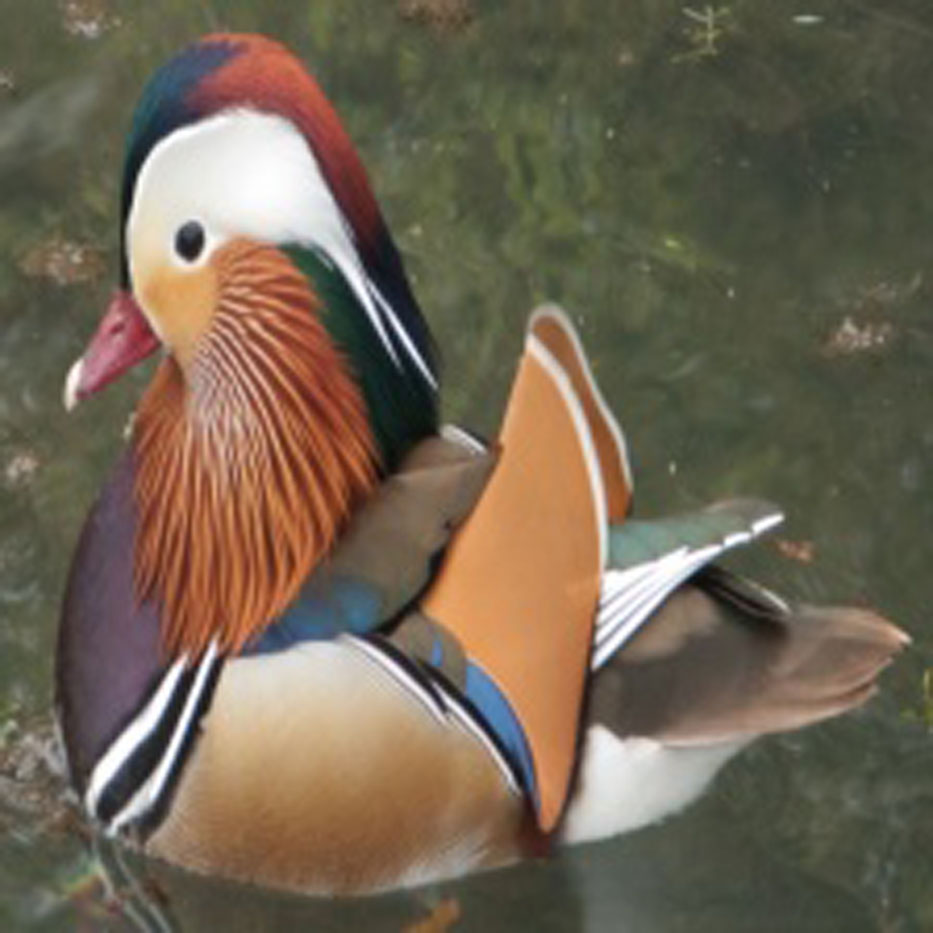Mencari Makan di Lumpur: (37, 289, 174, 405)
